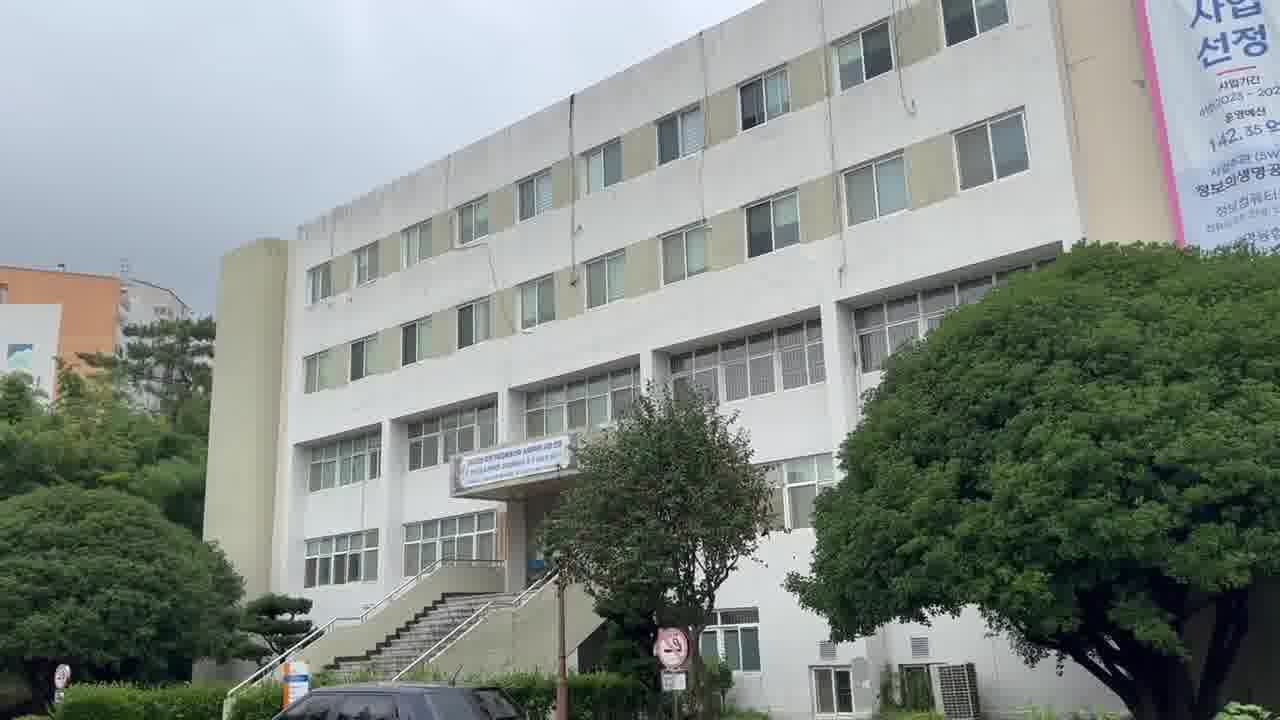low: (234, 54, 864, 393)
